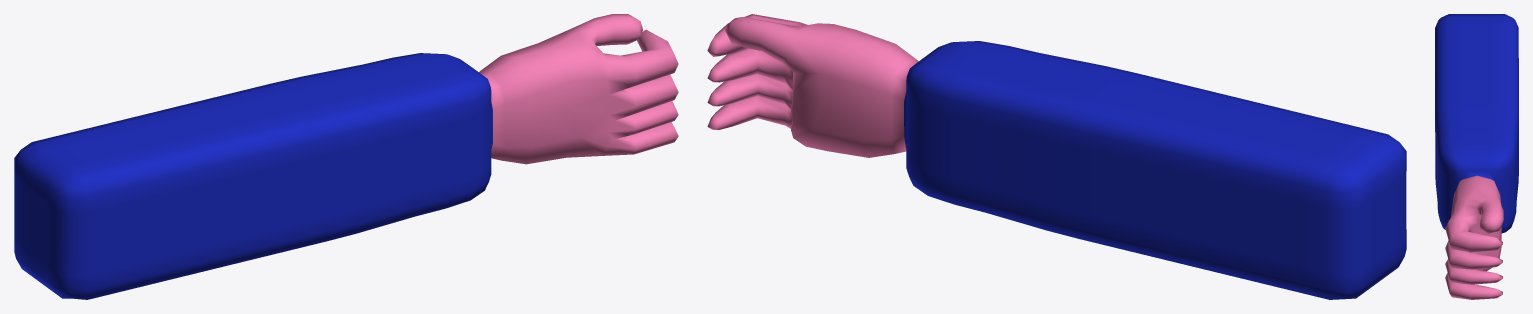
File: maoFechada.FBX
3 renders of one model, left to right at view 1: azimuth 30°, elevation 25°; view 2: azimuth 150°, elevation 25°; view 3: azimuth 270°, elevation 25°, orthographic. The views are drawn at different scales.
Parts seen in each view (by area): view 1: Box001; view 2: Box001; view 3: Box001.
Boxes of the visible parts, x1=… form: Box001: x1=14, y1=14, x2=678, y2=299; Box001: x1=707, y1=14, x2=1406, y2=299; Box001: x1=1435, y1=14, x2=1518, y2=299.
Bounding box in the file's own units: 134 × 25.28 × 22.39.
